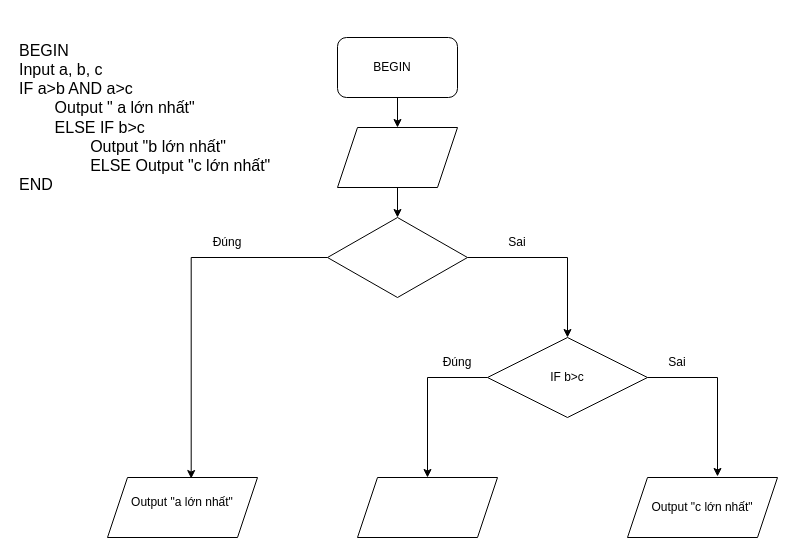
Some shapes in this 795 by 555 pixel diagram are drawn without their labels. Here are the shapes that lost their labels. From the top down, the centre of each, then its label:
(x=397, y=157): Input a, b, c
(x=397, y=257): IF a>b AND a>c
(x=427, y=507): Output "b lớn nhất"
